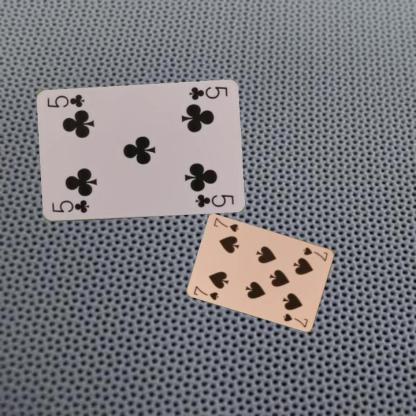5c: (186, 83, 229, 102), (49, 198, 90, 214)
7s: (191, 283, 220, 301), (301, 244, 329, 262)
